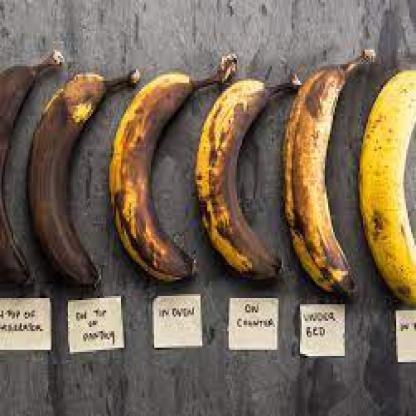banana_rotten: (23, 52, 123, 307)
